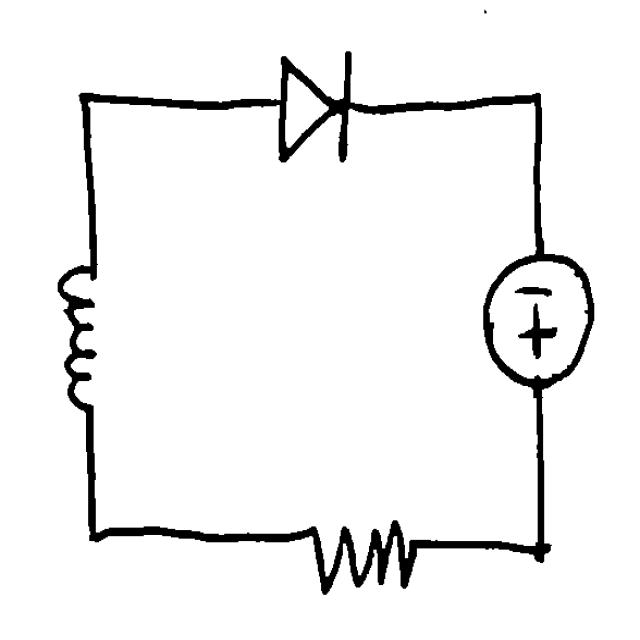dc: (475, 239, 600, 392)
diode: (264, 38, 363, 183)
inductor: (40, 250, 118, 436)
resistor: (284, 500, 434, 604)
